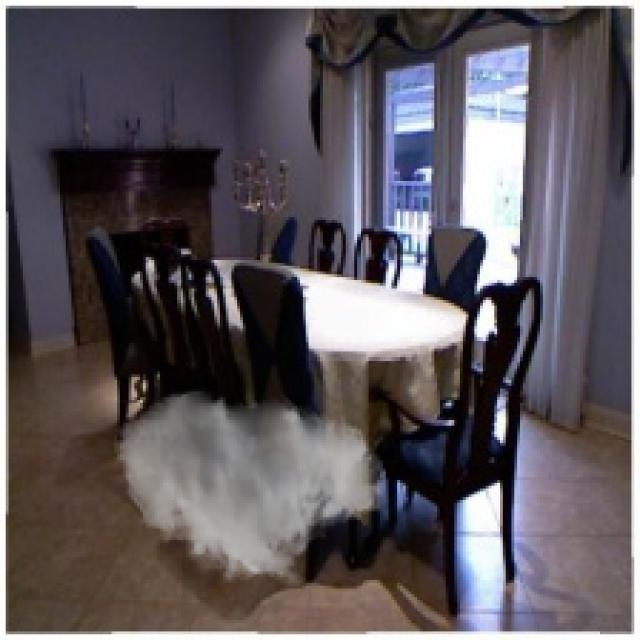smoke: (112, 388, 388, 588)
